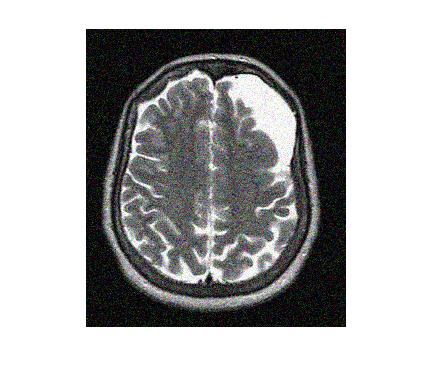Brain_Cancer: (236, 76, 299, 185)
